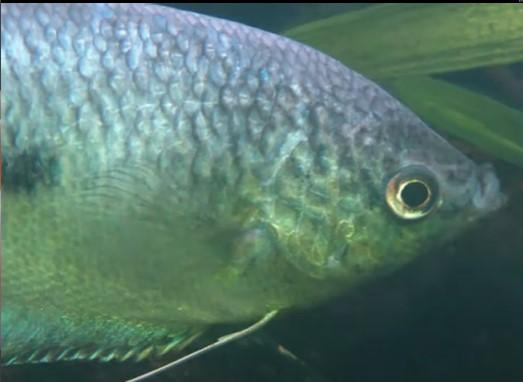Gourami: (0, 2, 510, 382)
